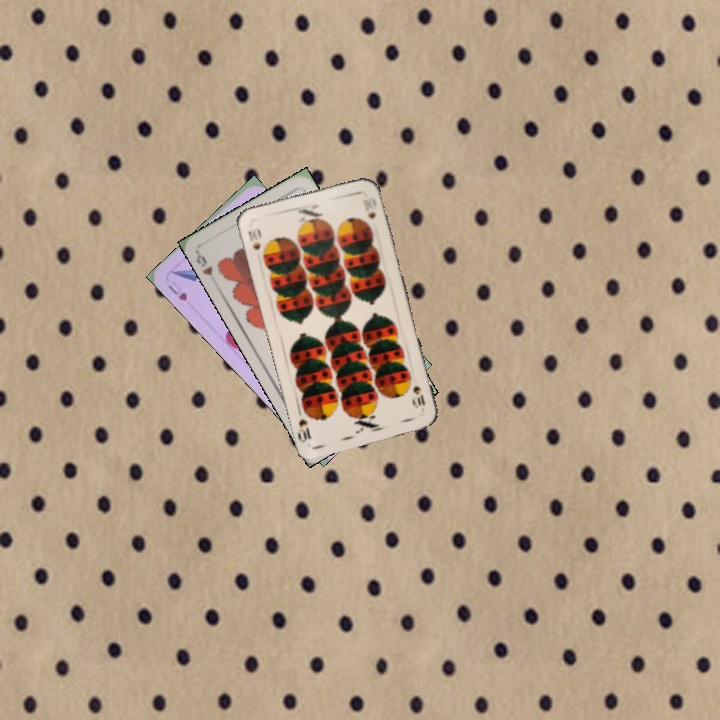H9: (192, 248, 216, 278)
HU: (164, 277, 190, 304)
S10: (406, 374, 428, 410), (244, 225, 263, 252)
